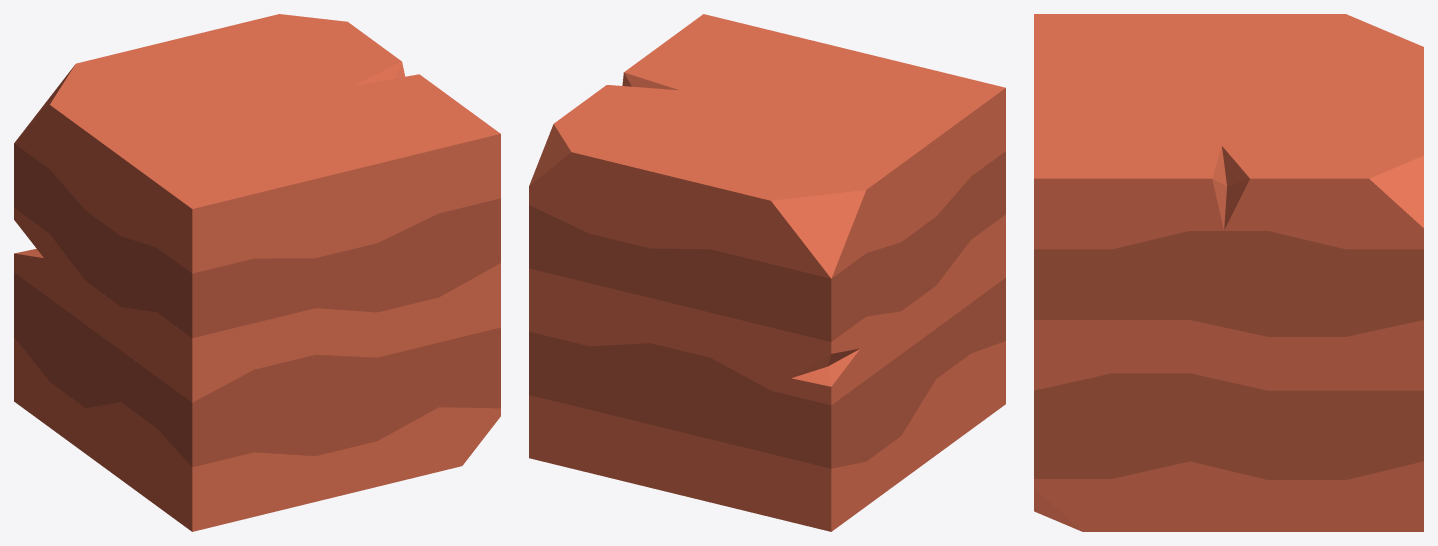
Rendered from Stone005.fbx.
3 renders of one model, left to right at view 1: azimuth 30°, elevation 25°; view 2: azimuth 150°, elevation 25°; view 3: azimuth 270°, elevation 25°, orthographic. The views are drawn at different scales.
Parts seen in each view (by area): view 1: Stone005; view 2: Stone005; view 3: Stone005.
Part boxes in pixels (bbox=[...]): Stone005: bbox=[14, 14, 500, 531]; Stone005: bbox=[529, 14, 1005, 531]; Stone005: bbox=[1034, 14, 1423, 531].
Size of the model in its own units: 156 by 156 by 156.
